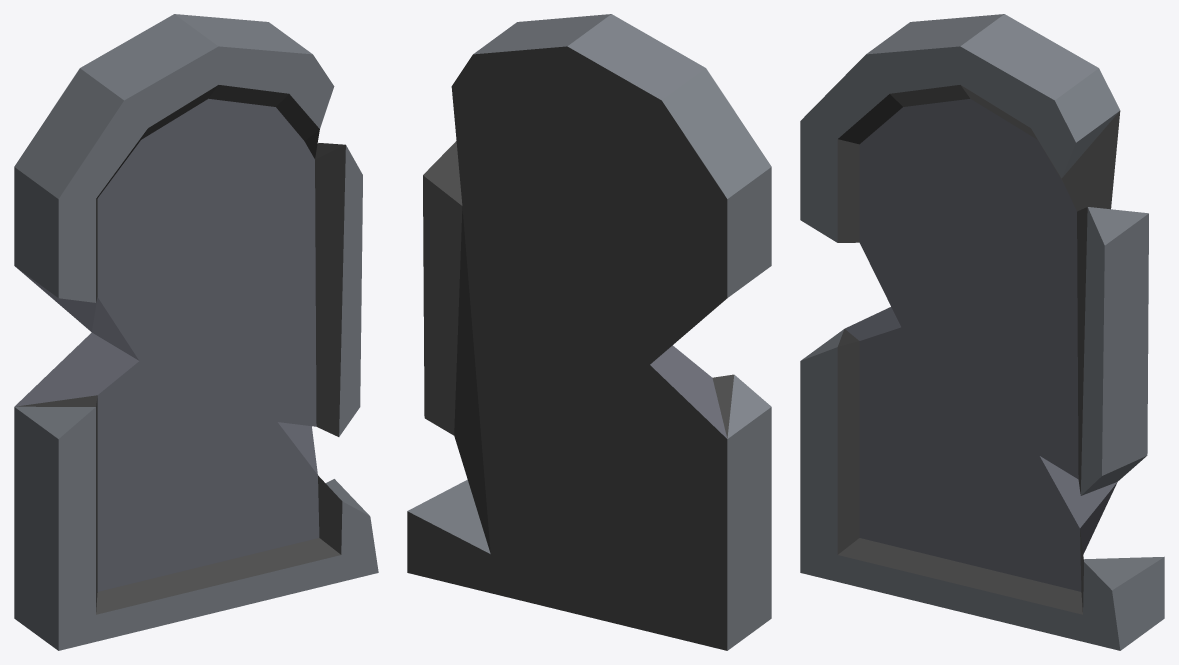
Rendered from Zeolite_01.FBX.
The picture shows the model from 3 angles, left to right: view 1: azimuth 30°, elevation 25°; view 2: azimuth 150°, elevation 25°; view 3: azimuth 330°, elevation 25°; orthographic projection.
Visible parts, largest first — view 1: Zeolite_01; view 2: Zeolite_01; view 3: Zeolite_01.
Part boxes in pixels (box(x1,y1,x2,y2)): Zeolite_01: box(14, 14, 378, 650); Zeolite_01: box(407, 14, 771, 650); Zeolite_01: box(800, 14, 1164, 650).
Bounding box in the file's own units: 95.73 × 162 × 22.94.
